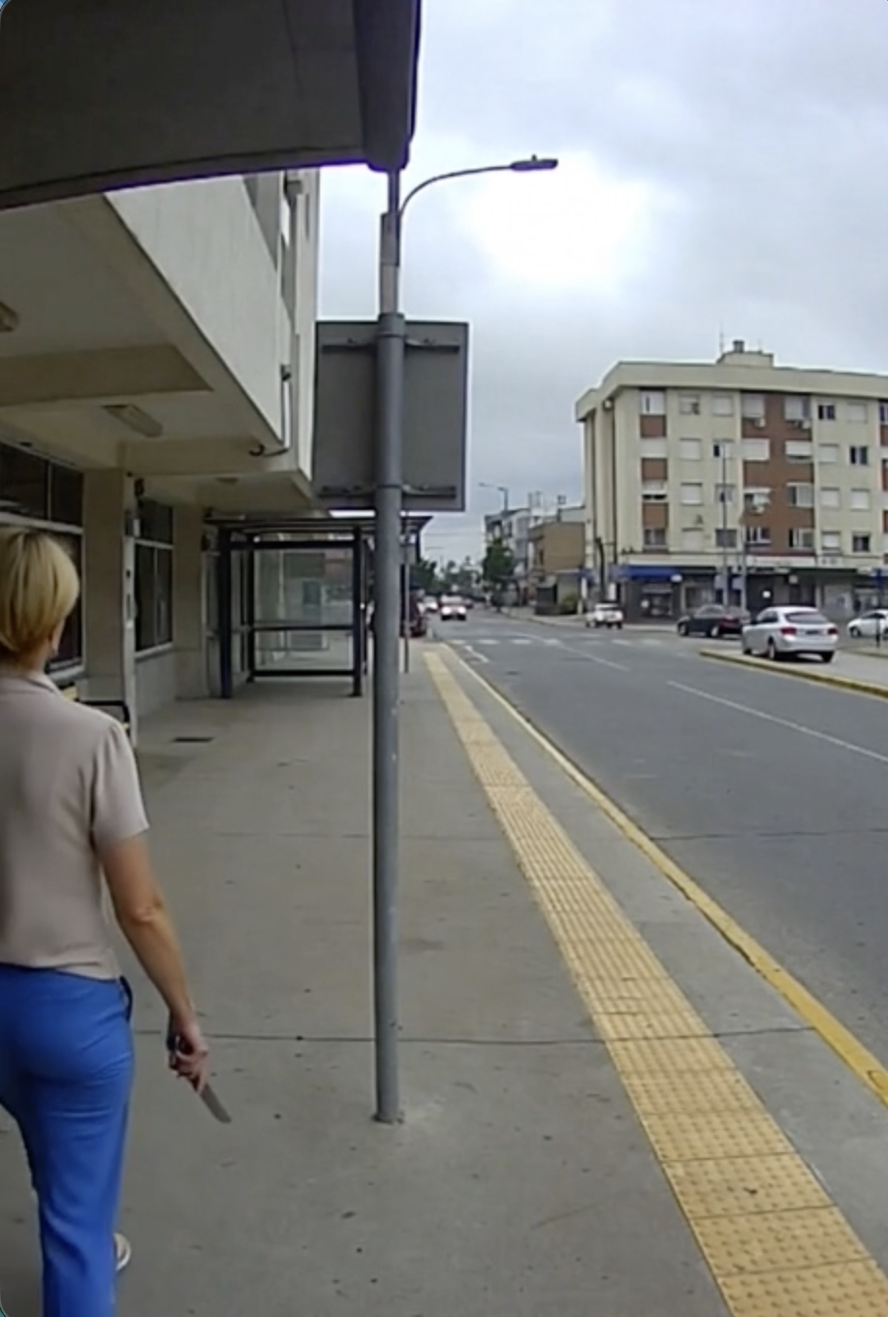Heavy Gun: (0, 529, 239, 1308)
Knife: (160, 1026, 246, 1131)
